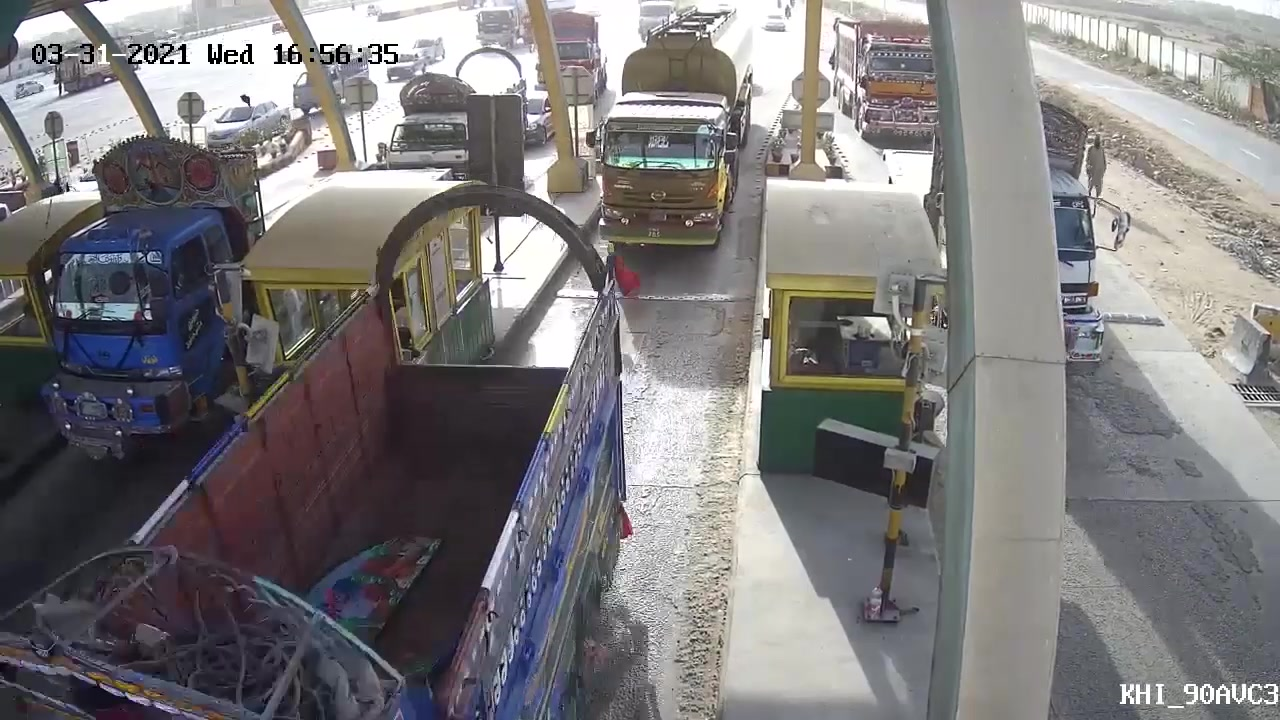F6: (584, 8, 760, 265)
